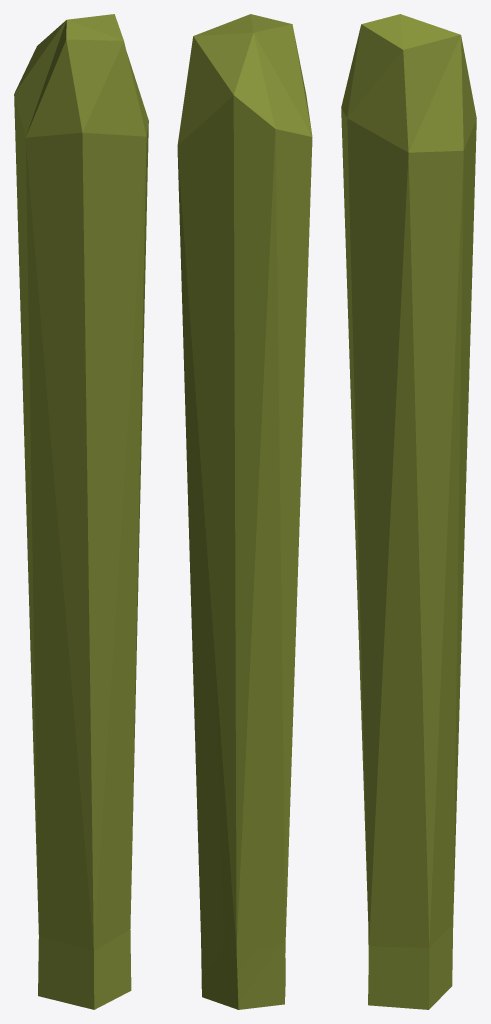
The model's file is ea_swamp_grass_01a_pre__33__lev1.glb.
The picture shows the model from 3 angles, left to right: view 1: azimuth 30°, elevation 25°; view 2: azimuth 150°, elevation 25°; view 3: azimuth 330°, elevation 25°; orthographic projection.
Parts seen in each view (by area): view 1: ea_swamp_grass_01a_pre__33__lev1; view 2: ea_swamp_grass_01a_pre__33__lev1; view 3: ea_swamp_grass_01a_pre__33__lev1.
Boxes of the visible parts, x1=… form: ea_swamp_grass_01a_pre__33__lev1: x1=14, y1=14, x2=148, y2=1009; ea_swamp_grass_01a_pre__33__lev1: x1=177, y1=14, x2=312, y2=1009; ea_swamp_grass_01a_pre__33__lev1: x1=341, y1=14, x2=476, y2=1009.
Bounding box in the file's own units: 0.3076 × 2.32 × 0.2632.
Materials: 1 (1 with a texture image).
